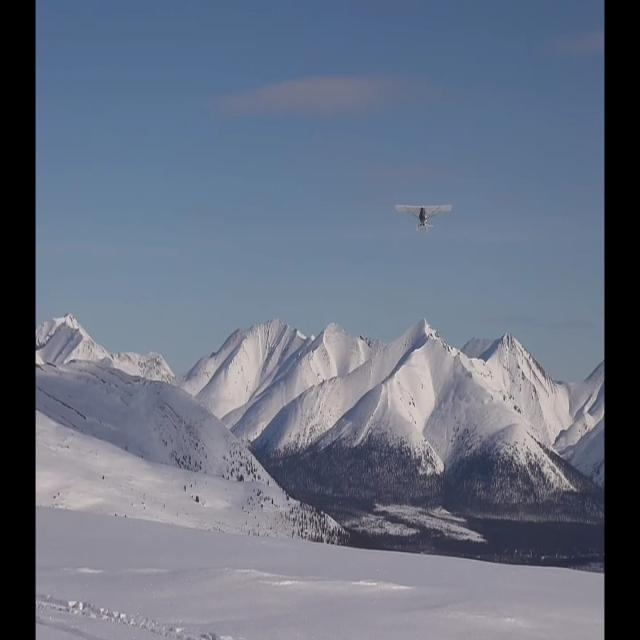iha: (394, 203, 452, 233)
